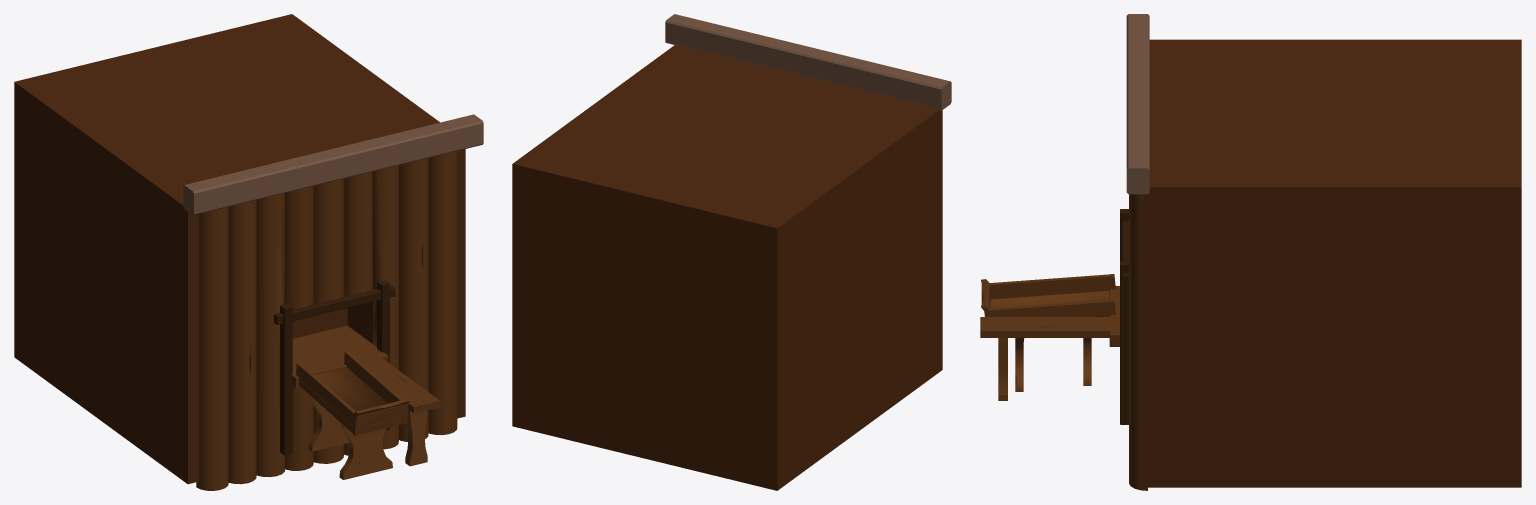
The model's file is SM_Kitchen.fbx.
3 views of the same model, side by side, from view 1: azimuth 30°, elevation 25°; view 2: azimuth 150°, elevation 25°; view 3: azimuth 270°, elevation 25° (orthographic). The views are drawn at different scales.
Visible parts, largest first — view 1: SM_Kitchen; view 2: SM_Kitchen; view 3: SM_Kitchen.
Boxes of the visible parts, x1,y1,x2,y2 form: SM_Kitchen: (14, 14, 483, 490); SM_Kitchen: (512, 14, 951, 490); SM_Kitchen: (980, 14, 1521, 490).
Size of the model in its own units: 4.15 by 4.19 by 6.16.
